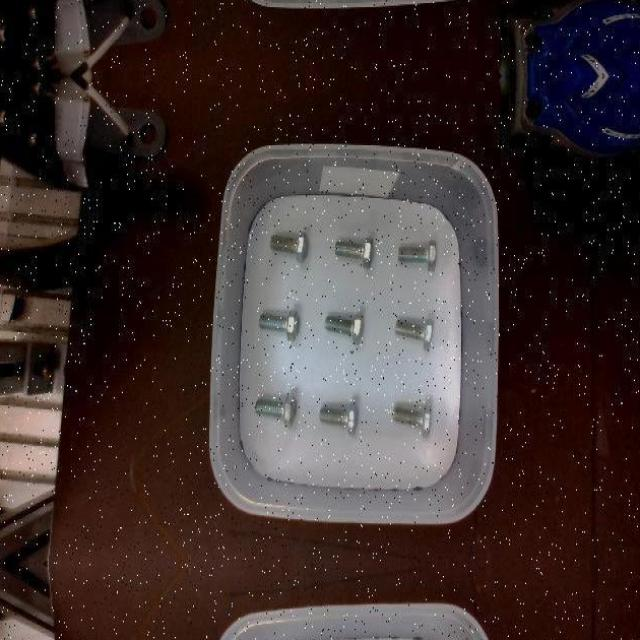screw: (255, 392, 297, 426), (392, 403, 432, 438), (394, 318, 435, 350), (319, 403, 358, 436), (259, 308, 299, 340), (334, 237, 374, 269), (269, 231, 308, 263), (324, 312, 363, 344), (397, 240, 436, 270)
